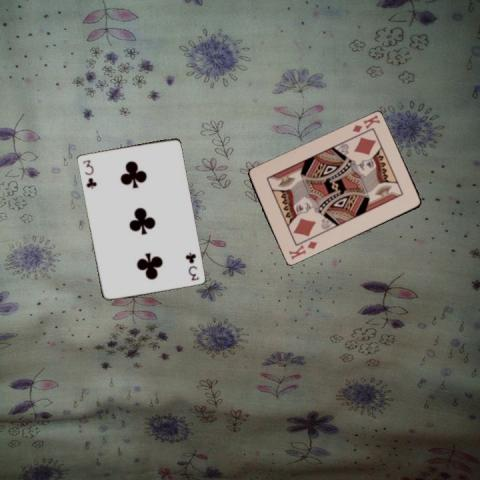3c: (79, 157, 98, 190), (183, 249, 200, 282)
Kd: (286, 238, 320, 261), (350, 112, 382, 134)
